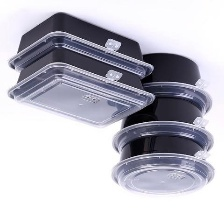plastic_box: (0, 7, 161, 133), (104, 46, 220, 203)
